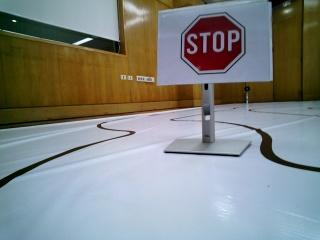stop: (162, 8, 272, 82)
